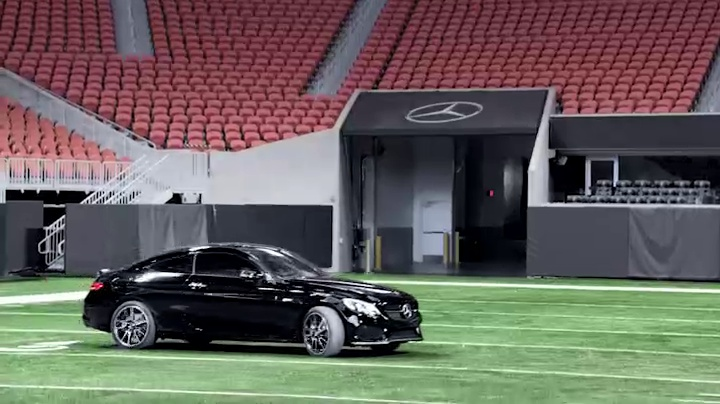amg: (81, 241, 424, 355)
